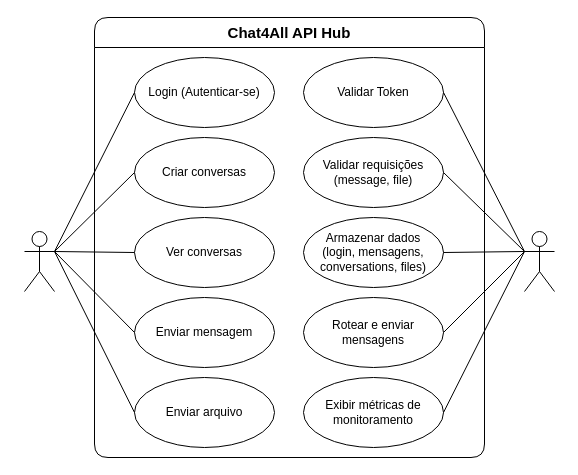
Image size: 578x475. Some labels were removed from this diagram. The centre of each missing label's shape, as x and y in pixels:
"Sistema (API)" goes at (539,261).
"Usuário (Cliente)" goes at (39,261).
